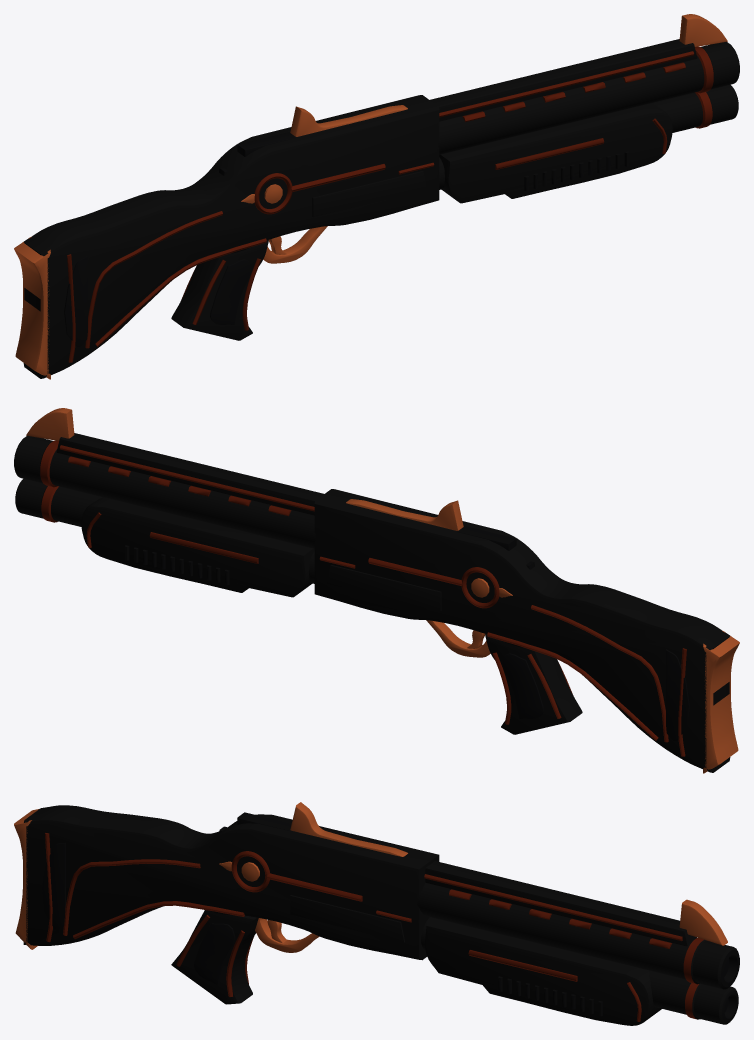
The model's file is raygun_shotgun.obj.
The picture shows the model from 3 angles, top to bottom: view 1: azimuth 30°, elevation 25°; view 2: azimuth 150°, elevation 25°; view 3: azimuth 330°, elevation 25°; orthographic projection.
Parts seen in each view (by area): view 1: Body_|_stock_and_receiver, Forend_|_pump, Barrel_|_upper, Top_rib, Grip, Butt_pad, Barrel_|_lower, Receiver_|_right_lower_panel, Grip_|_right_rubber_panel, Stock_|_right_ribbed_inlay, Glow_|_right_rib_strip, Top_fin (+7 smaller); view 2: Body_|_stock_and_receiver, Forend_|_pump, Barrel_|_upper, Top_rib, Grip, Butt_pad, Barrel_|_lower, Receiver_|_left_lower_panel, Grip_|_left_rubber_panel, Stock_|_left_ribbed_inlay, Glow_|_left_rib_strip, Top_fin (+7 smaller); view 3: Body_|_stock_and_receiver, Forend_|_pump, Barrel_|_upper, Top_rib, Grip, Barrel_|_lower, Receiver_|_right_lower_panel, Grip_|_right_rubber_panel, Stock_|_right_ribbed_inlay, Glow_|_right_rib_strip, Top_fin, Front_sight (+9 smaller).
Part boxes in pixels (left/top/right/bottom): Body_|_stock_and_receiver: left=23, top=95, right=439, bottom=378; Forend_|_pump: left=439, top=103, right=672, bottom=203; Barrel_|_upper: left=438, top=41, right=739, bottom=154; Top_rib: left=430, top=39, right=697, bottom=121; Grip: left=171, top=240, right=268, bottom=340; Butt_pad: left=14, top=236, right=50, bottom=379; Barrel_|_lower: left=439, top=84, right=738, bottom=189; Receiver_|_right_lower_panel: left=312, top=171, right=426, bottom=217; Grip_|_right_rubber_panel: left=210, top=259, right=251, bottom=324; Stock_|_right_ribbed_inlay: left=64, top=255, right=87, bottom=346; Glow_|_right_rib_strip: left=439, top=51, right=693, bottom=117; Top_fin: left=290, top=105, right=407, bottom=136; Body_|_stock_and_receiver: left=314, top=489, right=730, bottom=772; Forend_|_pump: left=81, top=497, right=314, bottom=597; Barrel_|_upper: left=14, top=435, right=315, bottom=548; Top_rib: left=56, top=433, right=323, bottom=515; Grip: left=485, top=634, right=582, bottom=734; Butt_pad: left=703, top=630, right=739, bottom=773; Barrel_|_lower: left=15, top=478, right=314, bottom=583; Receiver_|_left_lower_panel: left=327, top=565, right=441, bottom=611; Grip_|_left_rubber_panel: left=502, top=653, right=543, bottom=718; Stock_|_left_ribbed_inlay: left=666, top=649, right=689, bottom=740; Glow_|_left_rib_strip: left=60, top=445, right=314, bottom=511; Top_fin: left=346, top=499, right=463, bottom=530; Body_|_stock_and_receiver: left=23, top=805, right=439, bottom=960; Forend_|_pump: left=425, top=918, right=661, bottom=1025; Barrel_|_upper: left=417, top=882, right=739, bottom=989; Top_rib: left=425, top=861, right=696, bottom=946; Grip: left=171, top=910, right=258, bottom=1004; Barrel_|_lower: left=421, top=917, right=738, bottom=1024; Receiver_|_right_lower_panel: left=290, top=895, right=404, bottom=942; Grip_|_right_rubber_panel: left=194, top=923, right=235, bottom=985; Stock_|_right_ribbed_inlay: left=42, top=842, right=65, bottom=930; Glow_|_right_rib_strip: left=424, top=874, right=682, bottom=941; Top_fin: left=290, top=802, right=407, bottom=856; Front_sight: left=679, top=899, right=727, bottom=945.
Bounding box in the file's own units: 0.9461 × 0.2713 × 0.0658.
